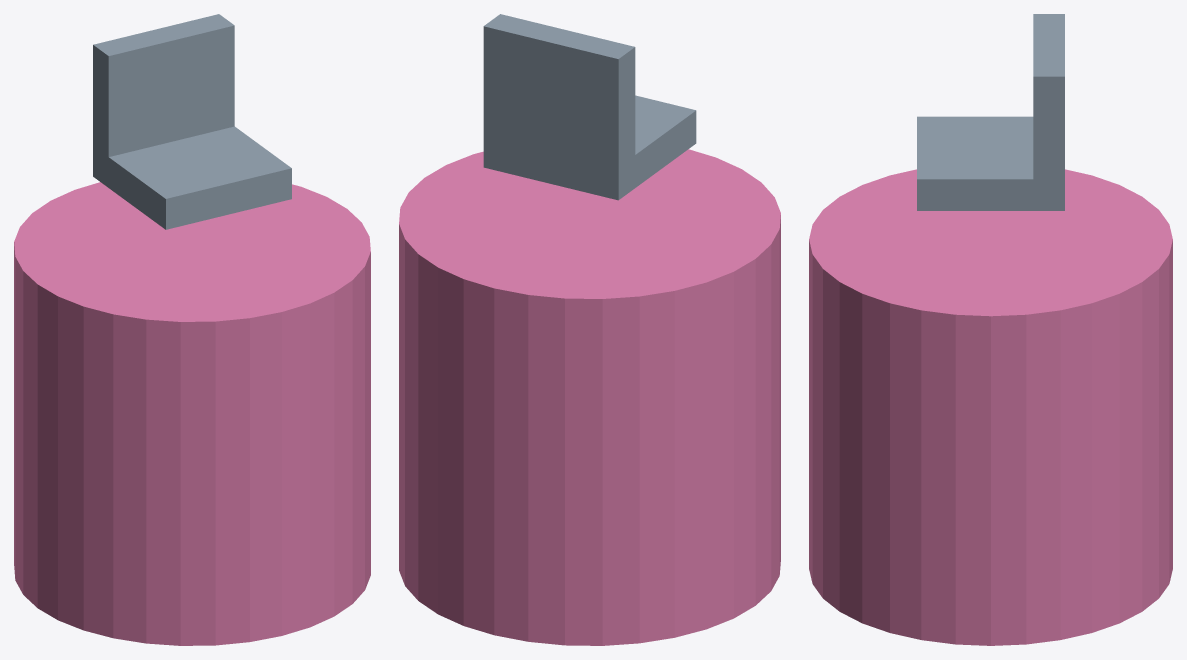
The model's file is something-01.glb.
3 renders of one model, left to right at view 1: azimuth 30°, elevation 25°; view 2: azimuth 150°, elevation 25°; view 3: azimuth 270°, elevation 25°, orthographic. The views are drawn at different scales.
Parts seen in each view (by area): view 1: Cylinder, Cube; view 2: Cylinder, Cube; view 3: Cylinder, Cube.
Boxes of the visible parts, x1=… form: Cylinder: x1=14, y1=182, x2=370, y2=645; Cube: x1=93, y1=14, x2=291, y2=229; Cylinder: x1=399, y1=149, x2=780, y2=645; Cube: x1=483, y1=14, x2=696, y2=200; Cylinder: x1=809, y1=169, x2=1172, y2=645; Cube: x1=917, y1=14, x2=1064, y2=210.
Size of the model in its own units: 1.53 by 2.43 by 1.53.
